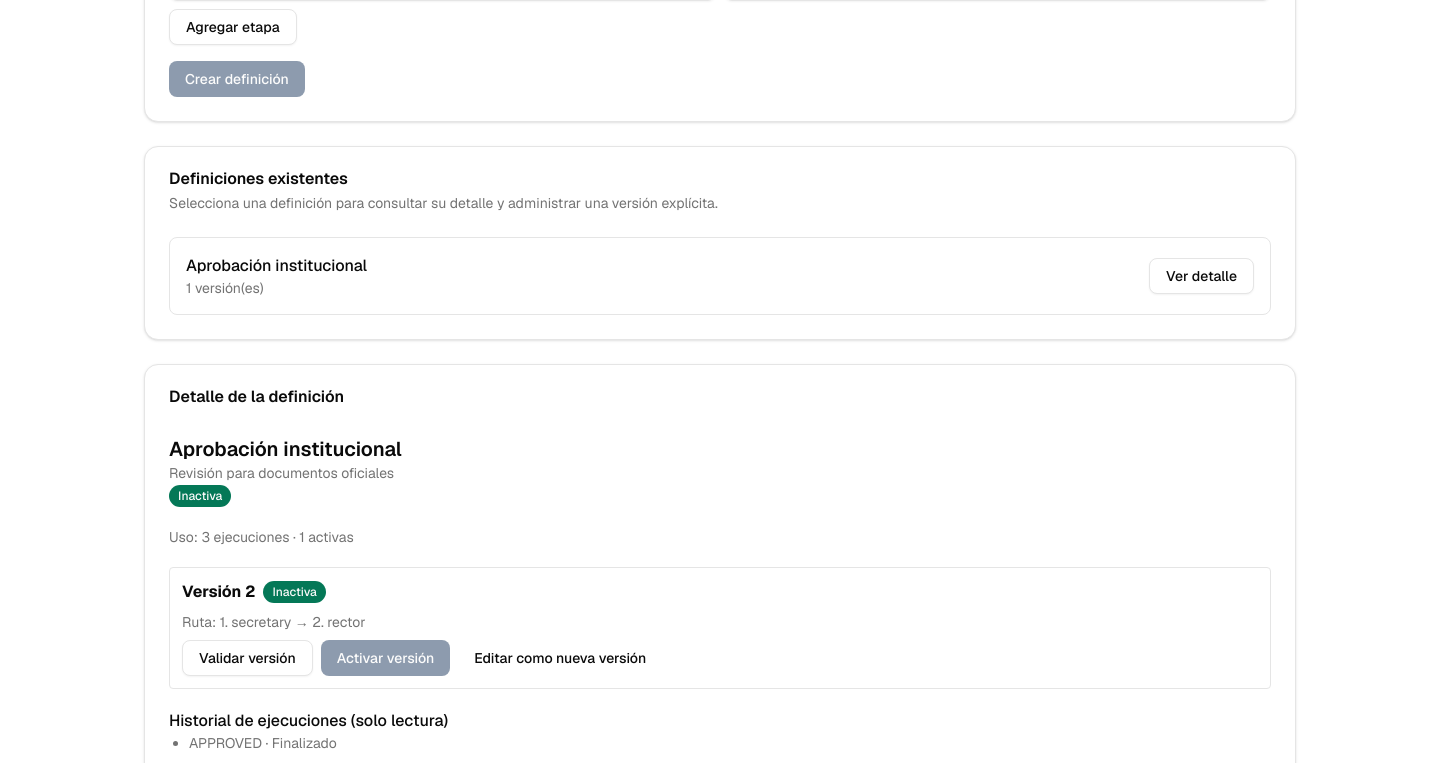
Test: WorkflowAdministration › activates and deactivates the selected version after valid validation
(page scrolled)
Expected: the button "Activar versión" is disabled, [321, 640, 450, 676]
Click the button "Validar versión" at (247, 658), box [182, 640, 313, 676]
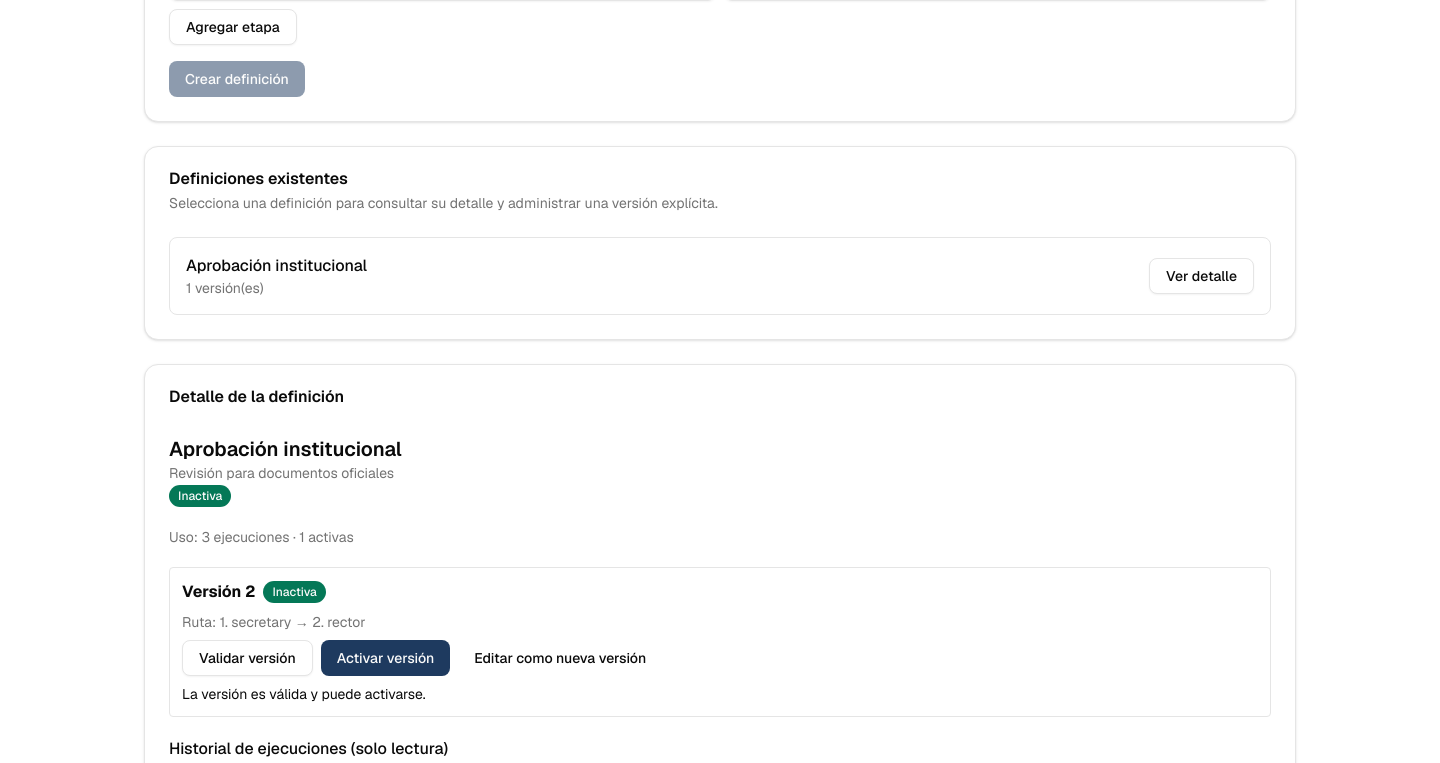
Now the button "Activar versión" is enabled
Click the button "Activar versión" at (386, 658), box [321, 640, 450, 676]
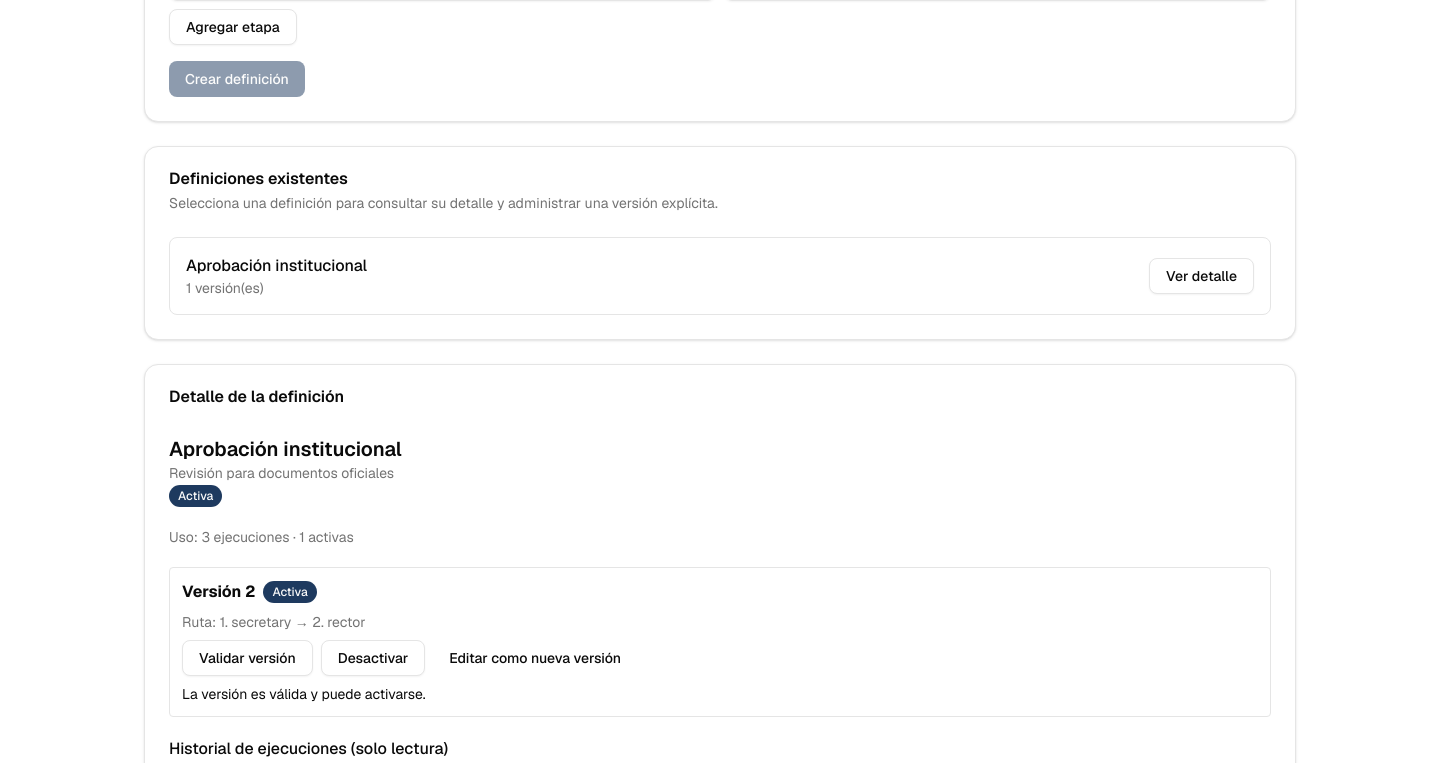
Expected: the text "Activa" is shown 2 times, [169, 485, 222, 507]; [263, 581, 317, 603]
Now the button "Desactivar" is shown
Now the button "Activar versión" is gone
Click the button "Desactivar" at (373, 658), box [321, 640, 425, 676]
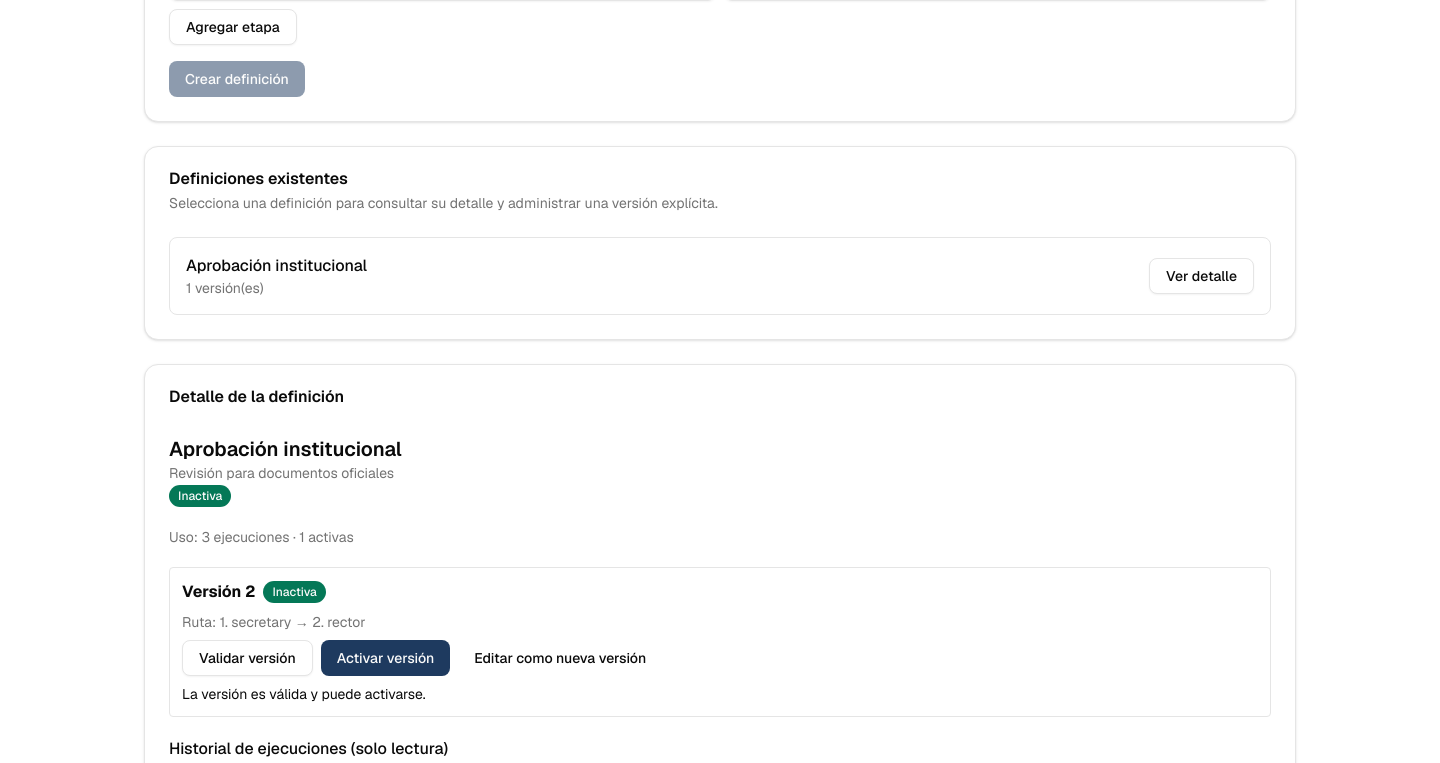
Expected: the text "Inactiva" is shown 2 times, [169, 485, 231, 507]; [263, 581, 326, 603]
Now the button "Activar versión" is shown, box [321, 640, 450, 676]
Now the button "Desactivar" is gone
